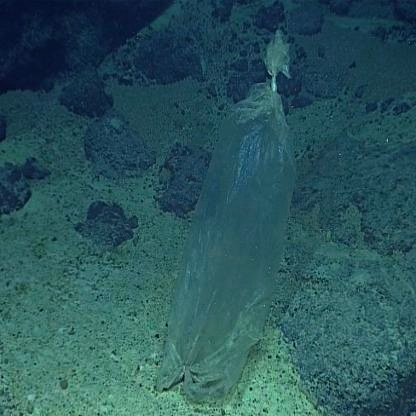pbag: (154, 28, 298, 407)
